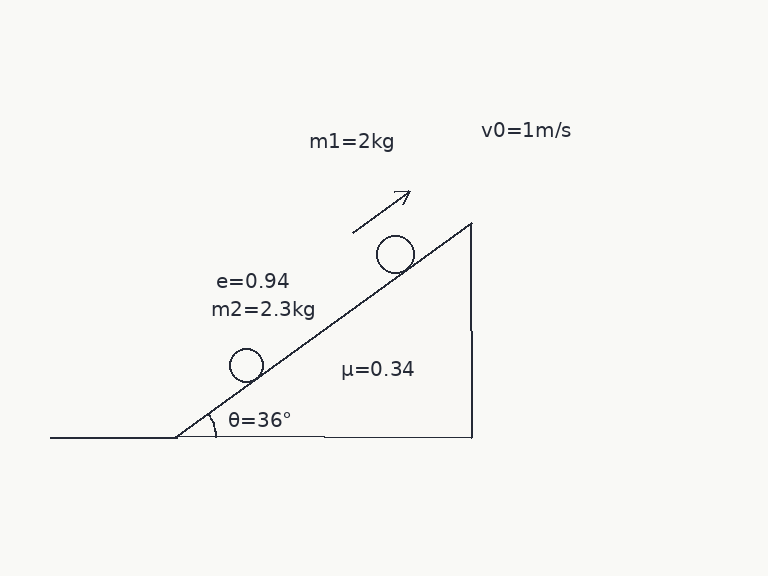ball: (374, 233, 416, 275), (227, 346, 265, 384)
ramp: (174, 220, 473, 439)
